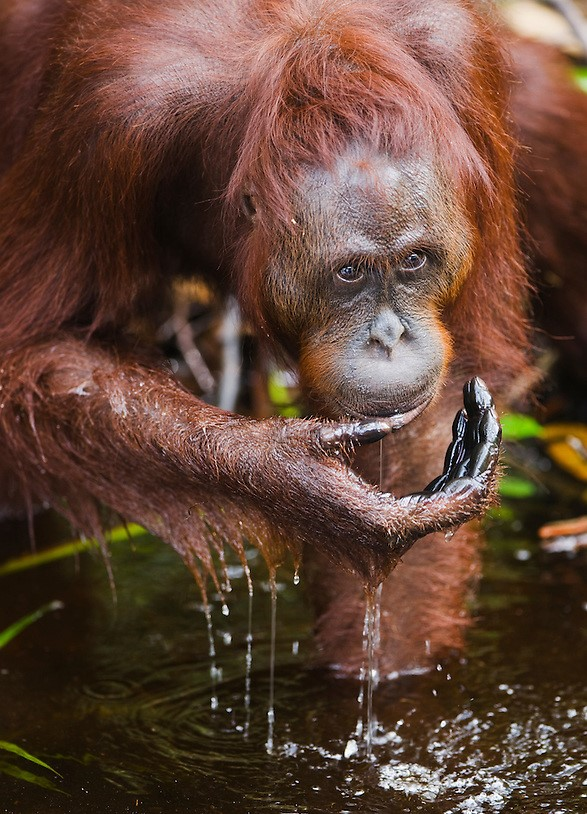Orangutan: (42, 15, 505, 655)
